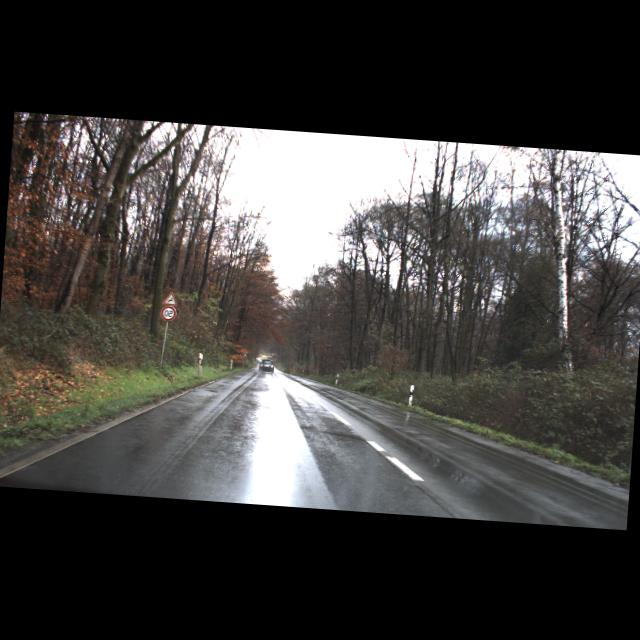danger: (162, 290, 178, 305)
prohibitory: (160, 304, 177, 321)
